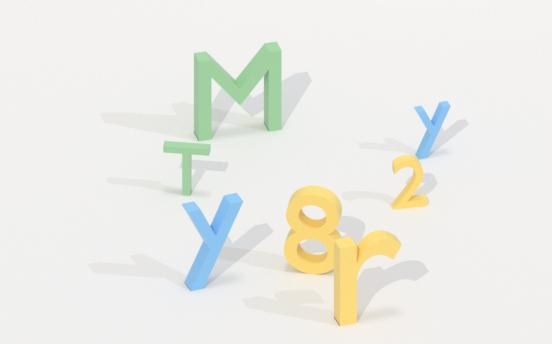2: (380, 150, 441, 218)
M-hoa: (189, 37, 288, 142)
R: (331, 227, 405, 331)
Y: (173, 195, 245, 303), (412, 99, 457, 162)
e: (282, 180, 346, 281)
t-hoa: (158, 137, 217, 202)
